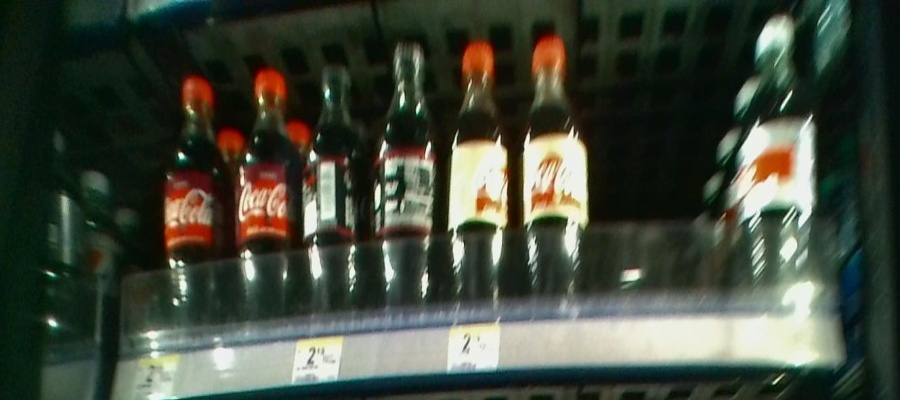bottle: (739, 14, 820, 296), (515, 31, 588, 304), (368, 44, 439, 317), (442, 35, 511, 305), (232, 65, 299, 339), (163, 64, 230, 335), (300, 64, 364, 334)
